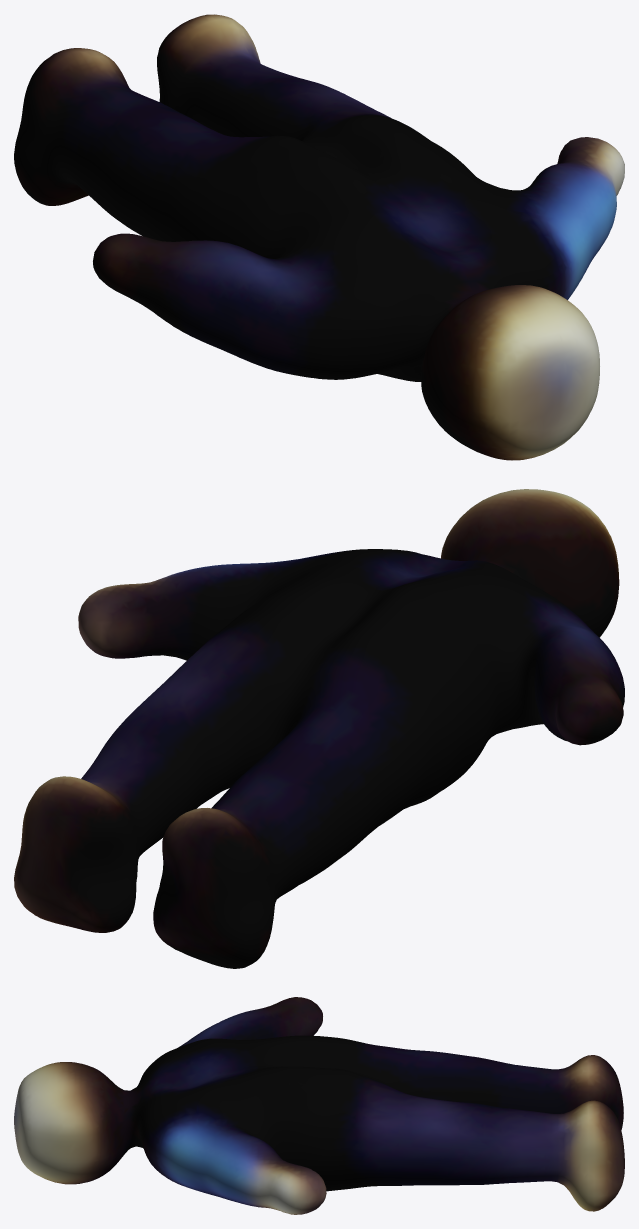
The model's file is grandfather.glb.
3 views of the same model, one above another, from view 1: azimuth 30°, elevation 25°; view 2: azimuth 150°, elevation 25°; view 3: azimuth 270°, elevation 25° (orthographic). The views are drawn at different scales.
Bounding box in the file's own units: 0.6866 × 0.2396 × 0.9998.
